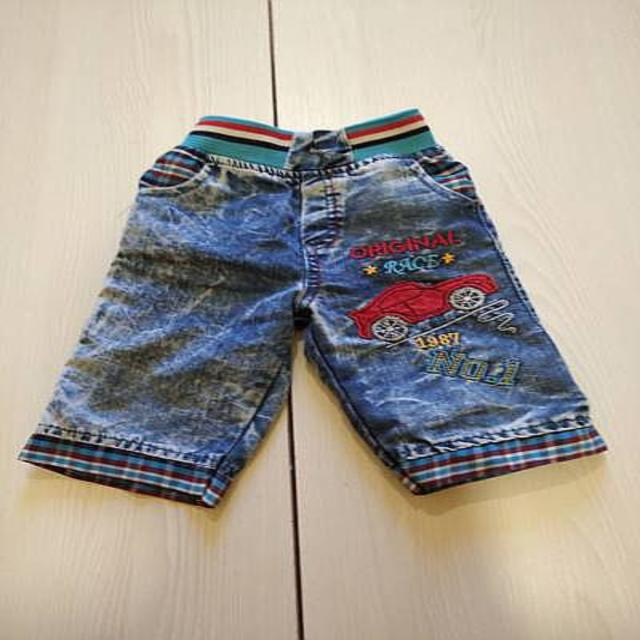SHIRT: (5, 106, 633, 513)
